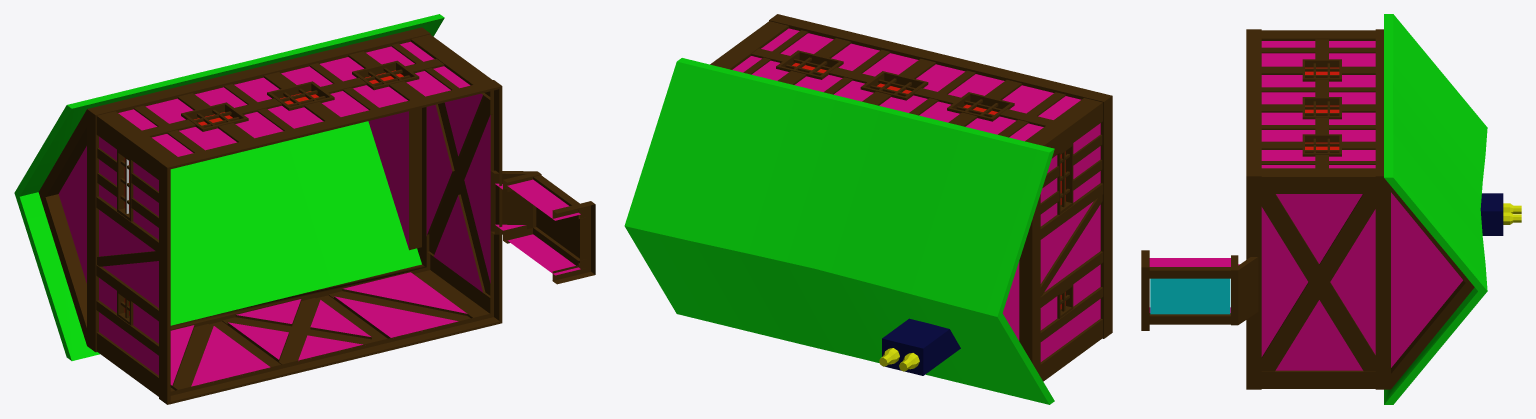
Rendered from MedievalBank_Top.fbx.
3 views of the same model, side by side, from view 1: azimuth 30°, elevation 25°; view 2: azimuth 150°, elevation 25°; view 3: azimuth 270°, elevation 25° (orthographic). The views are drawn at different scales.
Parts seen in each view (by area): view 1: Cube.006; view 2: Cube.006; view 3: Cube.006.
Boxes of the visible parts, x1,y1,x2,y2 form: Cube.006: (14, 14, 595, 404); Cube.006: (624, 14, 1112, 404); Cube.006: (1141, 14, 1521, 404).
Size of the model in its own units: 1885 by 1169 by 1774.
